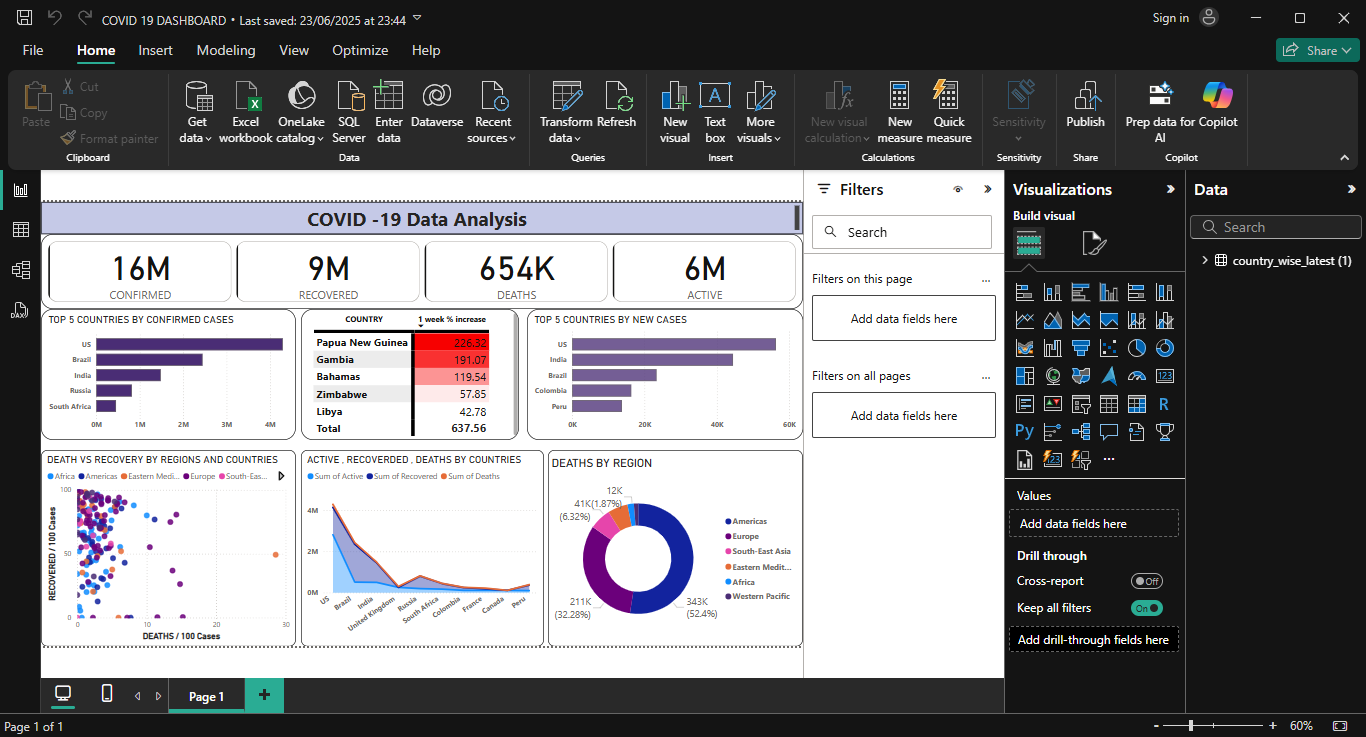

The page's visual inventory and layout, read from the dashboard file:
{"tool":"powerbi","page":{"name":"Page 1","canvas":[1280,746],"ordinal":0},"visuals":[{"type":"cardVisual","fields":{"Data":["Sum(country_wise_latest (1).Confirmed)","Sum(country_wise_latest (1).Recovered)","Sum(country_wise_latest (1).Deaths)","Sum(country_wise_latest (1).Active)"]},"box":[0,54,1280,126],"z":0},{"type":"barChart","title":"TOP 5 COUNTRIES BY CONFIRMED CASES ","fields":{"Category":["country_wise_latest (1).Country/Region"],"Y":["Sum(country_wise_latest (1).Confirmed)"]},"box":[0,180,428,220],"z":4},{"type":"barChart","title":"TOP 5 COUNTRIES BY NEW CASES","fields":{"Category":["country_wise_latest (1).Country/Region"],"Y":["Sum(country_wise_latest (1).New cases)"]},"box":[816.4,179.7,463.6,220.1],"z":5},{"type":"stackedAreaChart","title":"ACTIVE , RECOVERDED , DEATHS BY COUNTRIES ","fields":{"Category":["country_wise_latest (1).Country/Region"],"Y":["Sum(country_wise_latest (1).Active)","Sum(country_wise_latest (1).Recovered)","Sum(country_wise_latest (1).Deaths)"]},"box":[436,416,408,330],"z":6},{"type":"scatterChart","title":"DEATH VS RECOVERY BY REGIONS AND COUNTRIES","fields":{"X":["Sum(country_wise_latest (1).Deaths / 100 Cases)"],"Y":["Sum(country_wise_latest (1).Recovered / 100 Cases)"],"Series":["country_wise_latest (1).WHO Region"],"Category":["country_wise_latest (1).Country/Region"]},"box":[0,416,428,330],"z":7},{"type":"pivotTable","fields":{"Rows":["country_wise_latest (1).Country/Region"],"Values":["Sum(country_wise_latest (1).1 week % increase)"]},"box":[436.7,179.7,366.2,220.1],"z":8},{"type":"donutChart","title":"DEATHS BY REGION ","fields":{"Y":["Sum(country_wise_latest (1).Deaths)"],"Category":["country_wise_latest (1).WHO Region"]},"box":[852,416,428,330],"z":9},{"type":"textbox","box":[0,0,1280,54],"z":11}]}

Visuals, with their boxes on the page's 1280x746 design canvas (x1, y1, x2, y2). These are canvas units, not pixel positions in the 1366x737 screenshot, which may show the page scaled, cropped or inside an application window:
cardVisual - Sum(country_wise_latest (1).Confirmed) x Sum(country_wise_latest (1).Recovered): x1=0, y1=54, x2=1280, y2=180
"TOP 5 COUNTRIES BY CONFIRMED CASES " barChart: x1=0, y1=180, x2=428, y2=400
"TOP 5 COUNTRIES BY NEW CASES" barChart: x1=816, y1=180, x2=1280, y2=400
"ACTIVE , RECOVERDED , DEATHS BY COUNTRIES " stackedAreaChart: x1=436, y1=416, x2=844, y2=746
"DEATH VS RECOVERY BY REGIONS AND COUNTRIES" scatterChart: x1=0, y1=416, x2=428, y2=746
pivotTable - country_wise_latest (1).Country/Region x Sum(country_wise_latest (1).1 week % increase): x1=437, y1=180, x2=803, y2=400
"DEATHS BY REGION " donutChart: x1=852, y1=416, x2=1280, y2=746
textbox: x1=0, y1=0, x2=1280, y2=54
